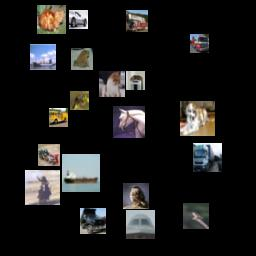airplane: (126, 210, 155, 239)
automobile: (69, 10, 88, 29)
bird: (183, 203, 209, 229), (123, 183, 149, 209), (70, 91, 89, 110)
cat: (37, 5, 66, 34), (99, 71, 125, 97), (126, 71, 145, 90)
dog: (180, 101, 215, 136)
frog: (71, 48, 93, 70)
ship: (62, 154, 100, 192), (30, 44, 56, 70)
truck: (193, 143, 222, 172), (80, 208, 106, 234), (38, 144, 60, 166), (126, 10, 148, 32), (49, 108, 68, 127), (190, 34, 209, 53)
